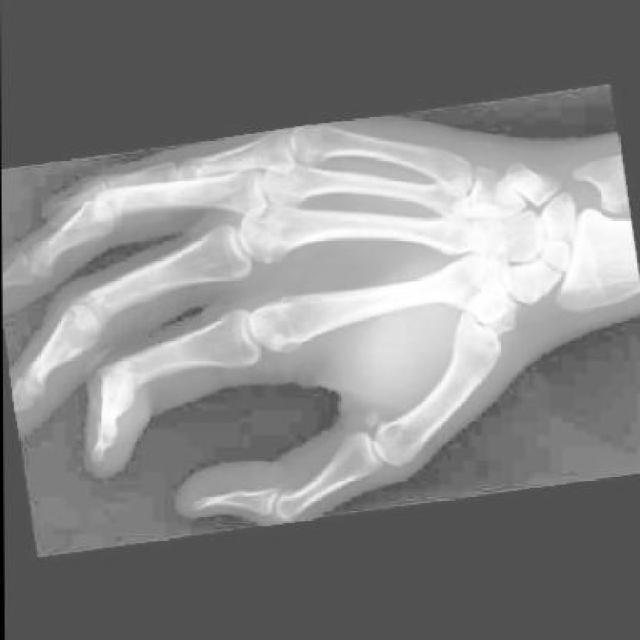Fracture: (515, 242, 565, 281)
